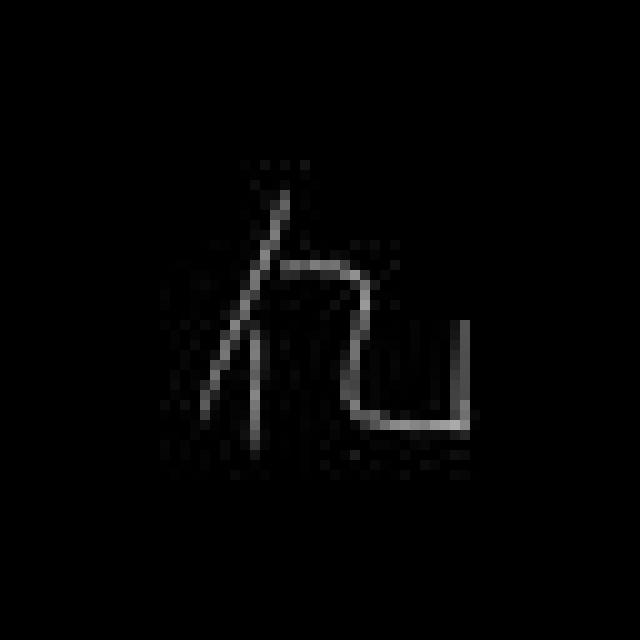100000 -a hundred thousand-: (192, 190, 484, 457)
